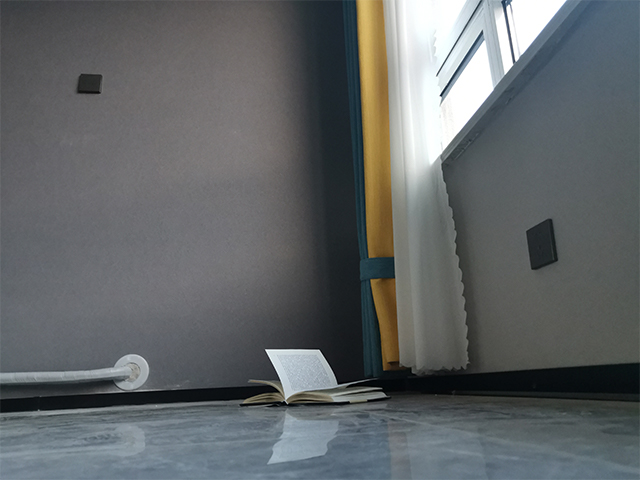book: (237, 347, 394, 409)
curtain: (340, 1, 473, 380)
